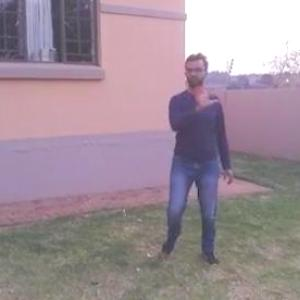follow_hand: (192, 82, 223, 106)
